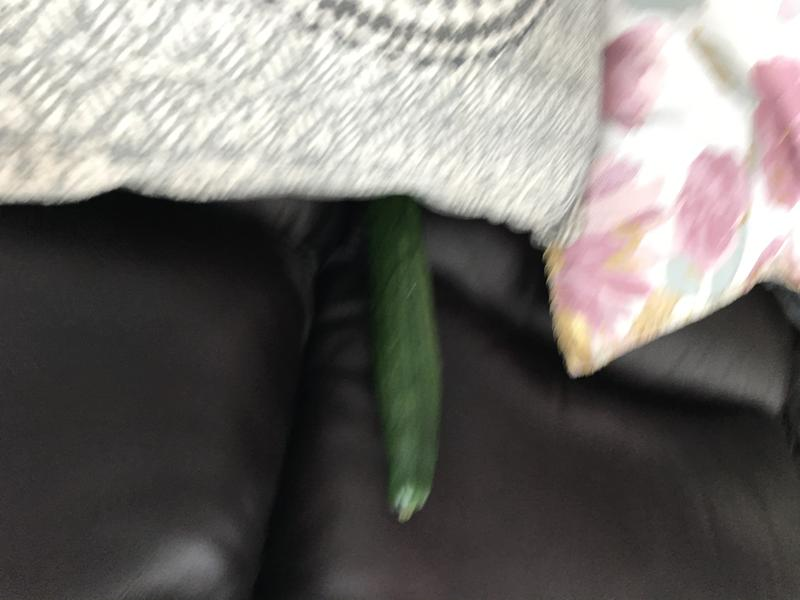cucumber: (341, 157, 469, 543)
